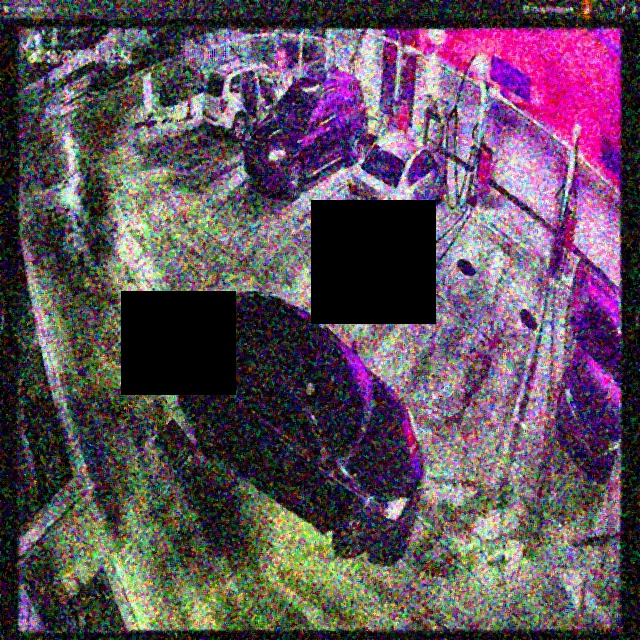Car: (173, 291, 425, 564), (243, 72, 367, 200), (347, 129, 447, 241), (204, 60, 293, 142)
